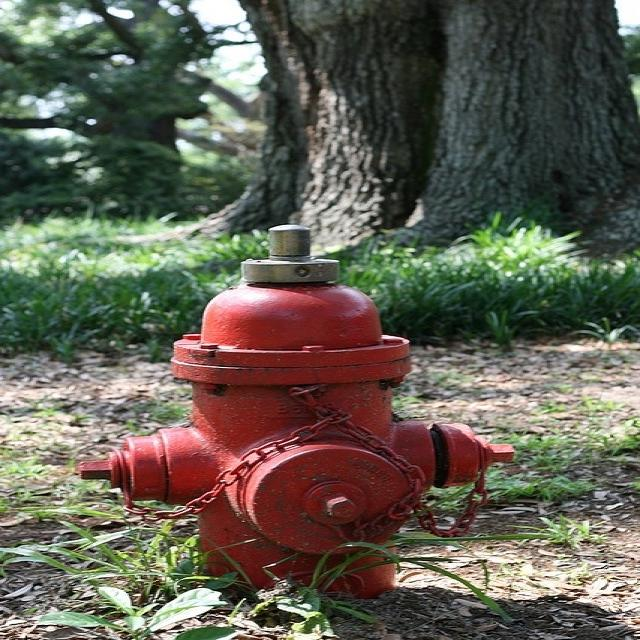fire_hydrant: (116, 256, 443, 600)
